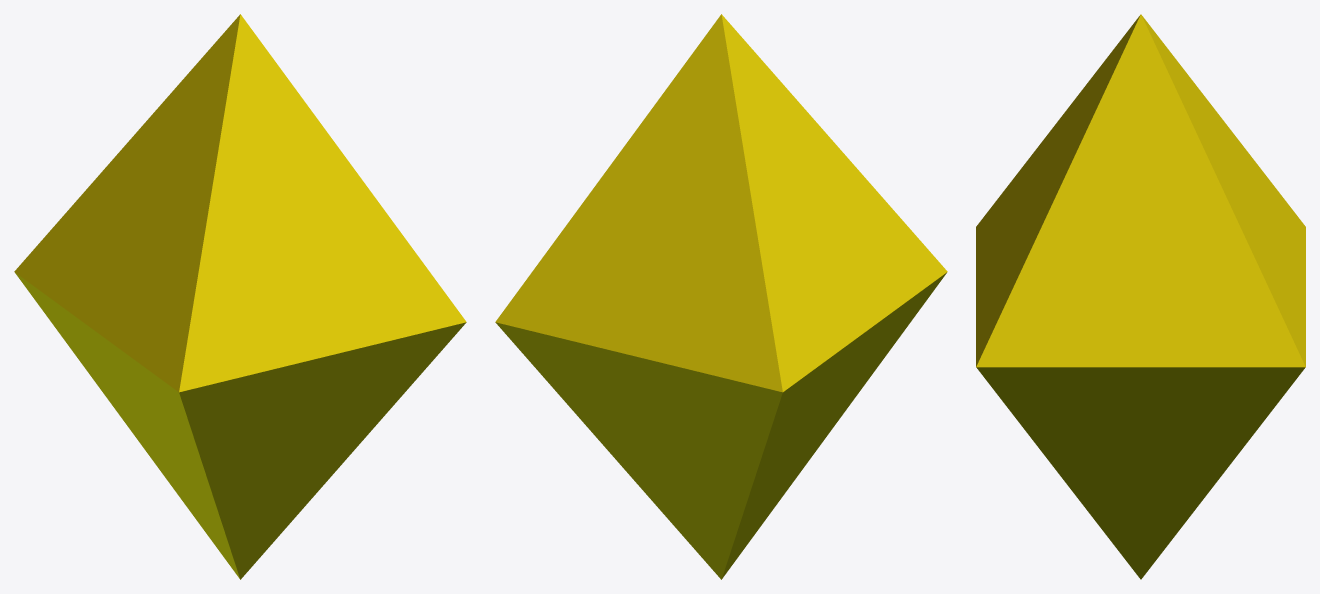
The model's file is Geometry Dash CheckPoints.fbx.
3 renders of one model, left to right at view 1: azimuth 30°, elevation 25°; view 2: azimuth 150°, elevation 25°; view 3: azimuth 270°, elevation 25°, orthographic.
Parts seen in each view (by area): view 1: Cube; view 2: Cube; view 3: Cube.
Boxes of the visible parts, x1,y1,x2,y2 form: Cube: (14, 14, 466, 579); Cube: (495, 14, 947, 579); Cube: (976, 14, 1305, 579).
Size of the model in its own units: 79.3 by 149 by 78.69.
